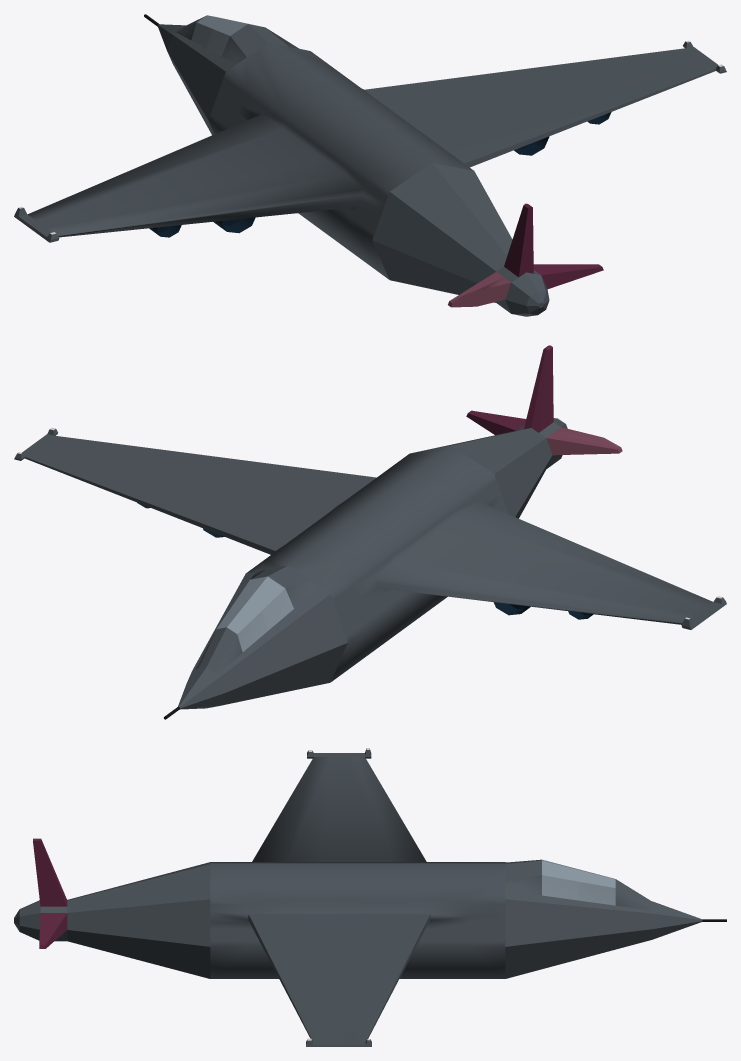
3 renders of one model, top to bottom at view 1: azimuth 30°, elevation 25°; view 2: azimuth 150°, elevation 25°; view 3: azimuth 270°, elevation 25°, orthographic. The views are drawn at different scales.
Parts seen in each view (by area): view 1: Plane Body.001; view 2: Plane Body.001; view 3: Plane Body.001.
Boxes of the visible parts, x1,y1,x2,y2 form: Plane Body.001: (14, 14, 726, 316); Plane Body.001: (14, 345, 726, 719); Plane Body.001: (14, 748, 726, 1046).
Bounding box in the file's own units: 5.65 × 1.22 × 5.73.
1 material, 1 textured.
